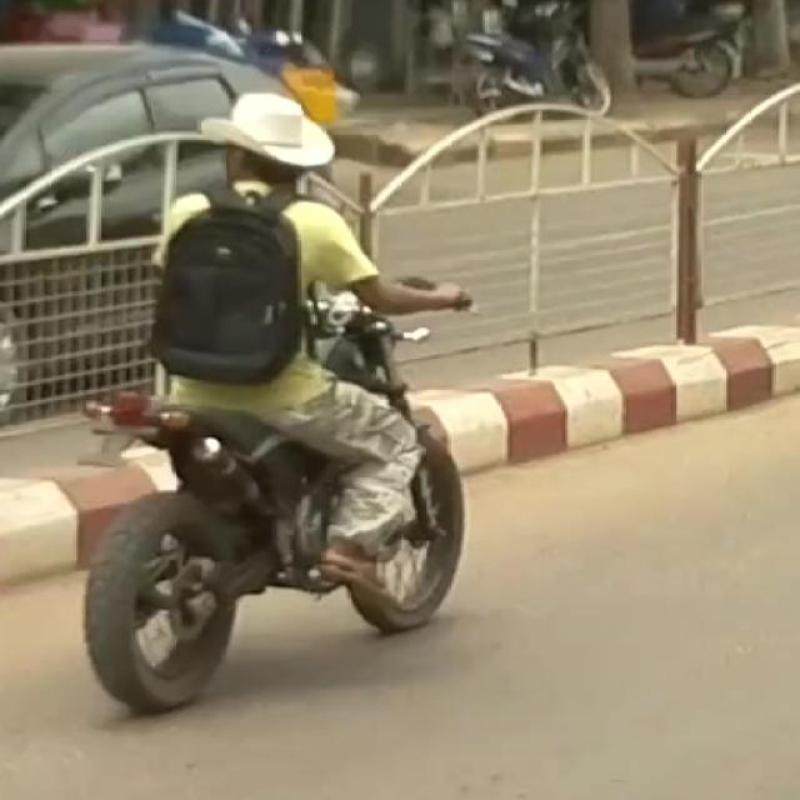nohelmet: (200, 81, 364, 227)
